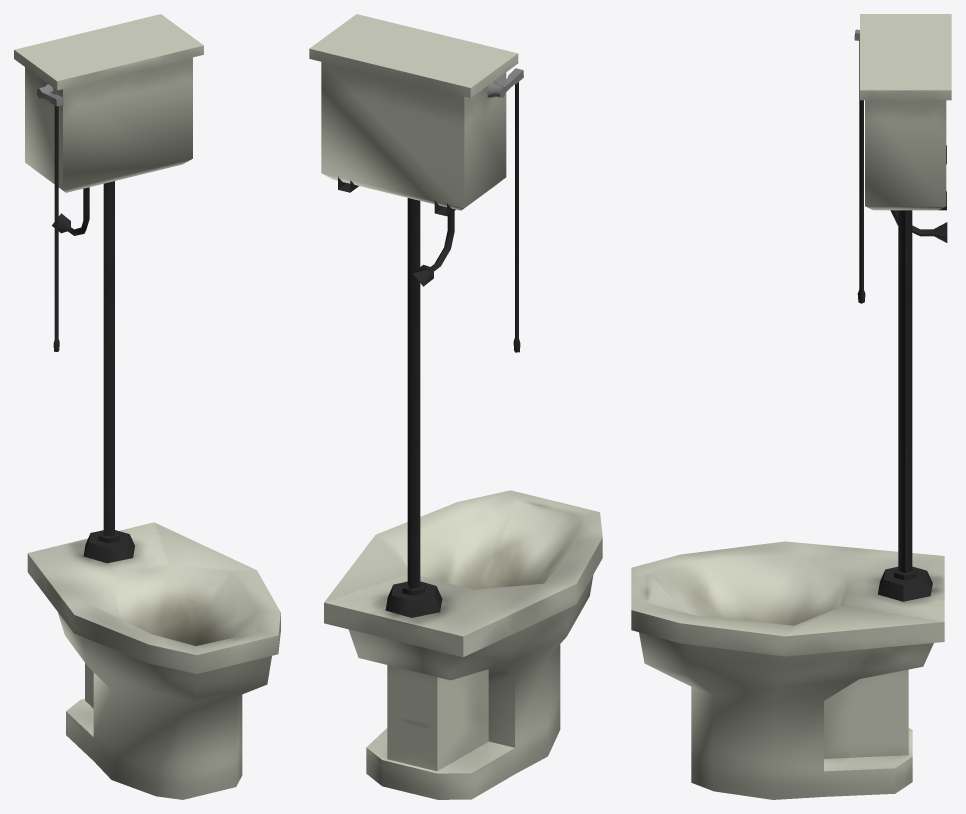
The model's file is Toilet.glb.
3 renders of one model, left to right at view 1: azimuth 30°, elevation 25°; view 2: azimuth 150°, elevation 25°; view 3: azimuth 270°, elevation 25°, orthographic. The views are drawn at different scales.
Visible parts, largest first — view 1: Toilet; view 2: Toilet; view 3: Toilet.
Part boxes in pixels (<box>): Toilet: <box>14,14,280,799</box>; Toilet: <box>309,14,602,799</box>; Toilet: <box>631,14,951,799</box>.
Bounding box in the file's own units: 0.7424 × 2.61 × 1.06.
1 material, 1 textured.
